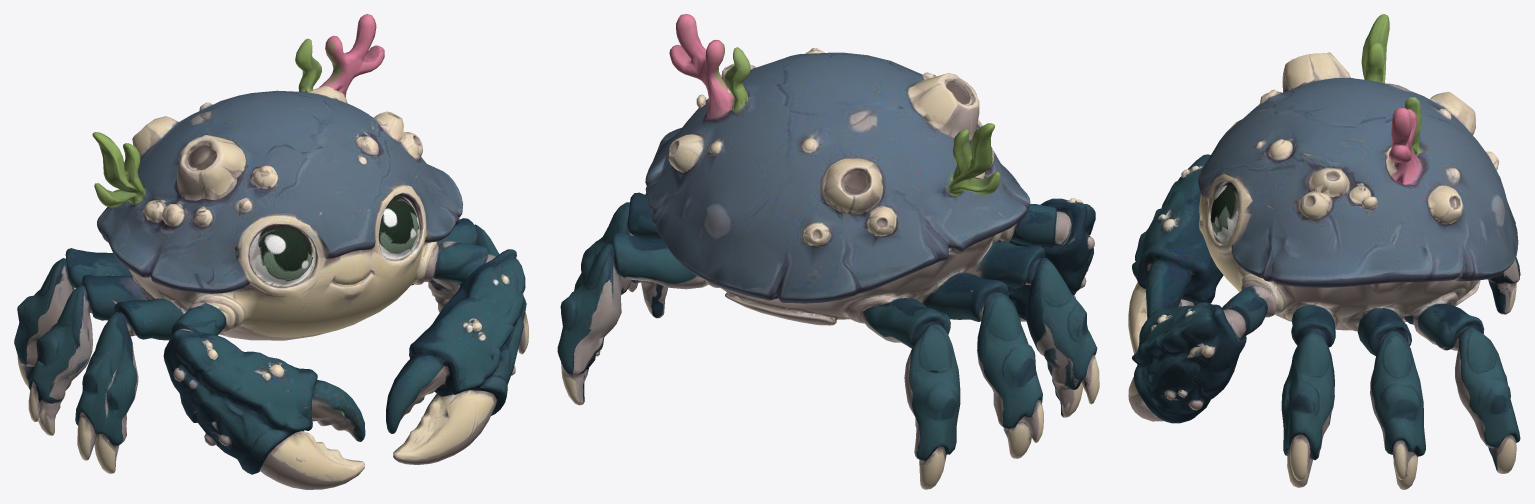
3 views of the same model, side by side, from view 1: azimuth 30°, elevation 25°; view 2: azimuth 150°, elevation 25°; view 3: azimuth 270°, elevation 25° (orthographic). The views are drawn at different scales.
Visible parts, largest first — view 1: Mesh_0; view 2: Mesh_0; view 3: Mesh_0.
Boxes of the visible parts, left/top/right/bottom form: Mesh_0: left=14, top=14, right=528, bottom=489; Mesh_0: left=557, top=14, right=1099, bottom=489; Mesh_0: left=1128, top=14, right=1520, bottom=489.
Size of the model in its own units: 1.9 by 1.39 by 1.45.
Materials: 1 (1 with a texture image).
